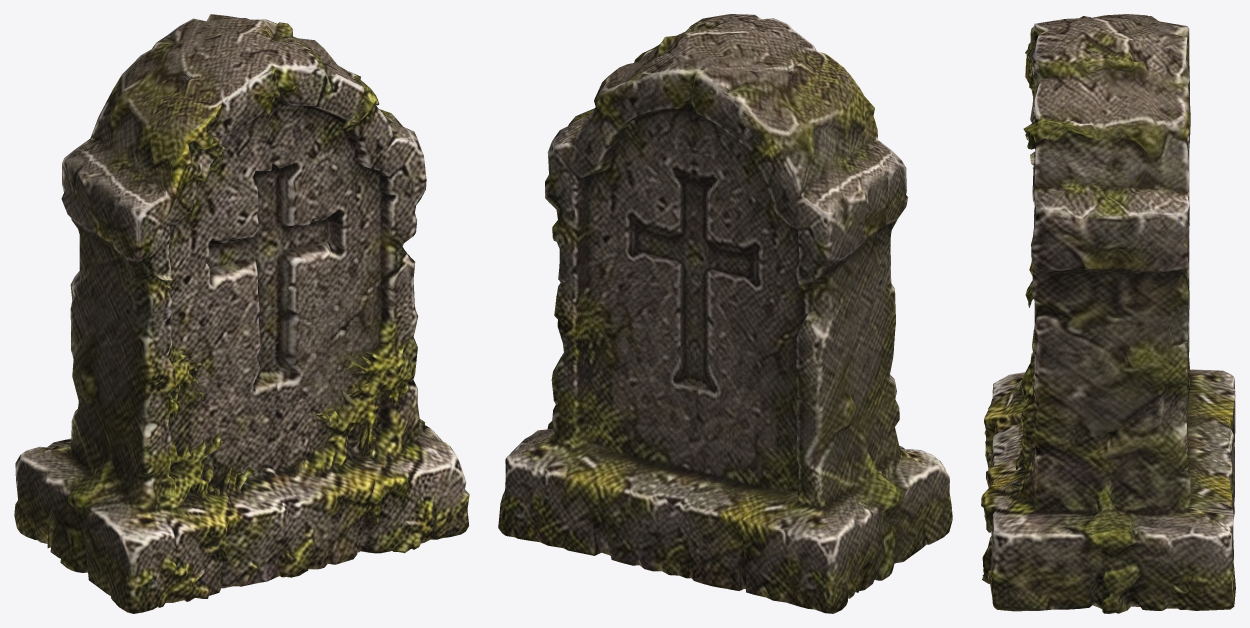
File: nagrobek.glb
3 views of the same model, side by side, from view 1: azimuth 30°, elevation 25°; view 2: azimuth 150°, elevation 25°; view 3: azimuth 270°, elevation 25° (orthographic).
Parts seen in each view (by area): view 1: Mesh_0; view 2: Mesh_0; view 3: Mesh_0.
Boxes of the visible parts, <box> form: Mesh_0: <box>14,14,469,613</box>; Mesh_0: <box>498,14,952,613</box>; Mesh_0: <box>981,14,1235,613</box>.
Size of the model in its own units: 0.6934 by 0.9521 by 0.4355.
Materials: 1 (1 with a texture image).
